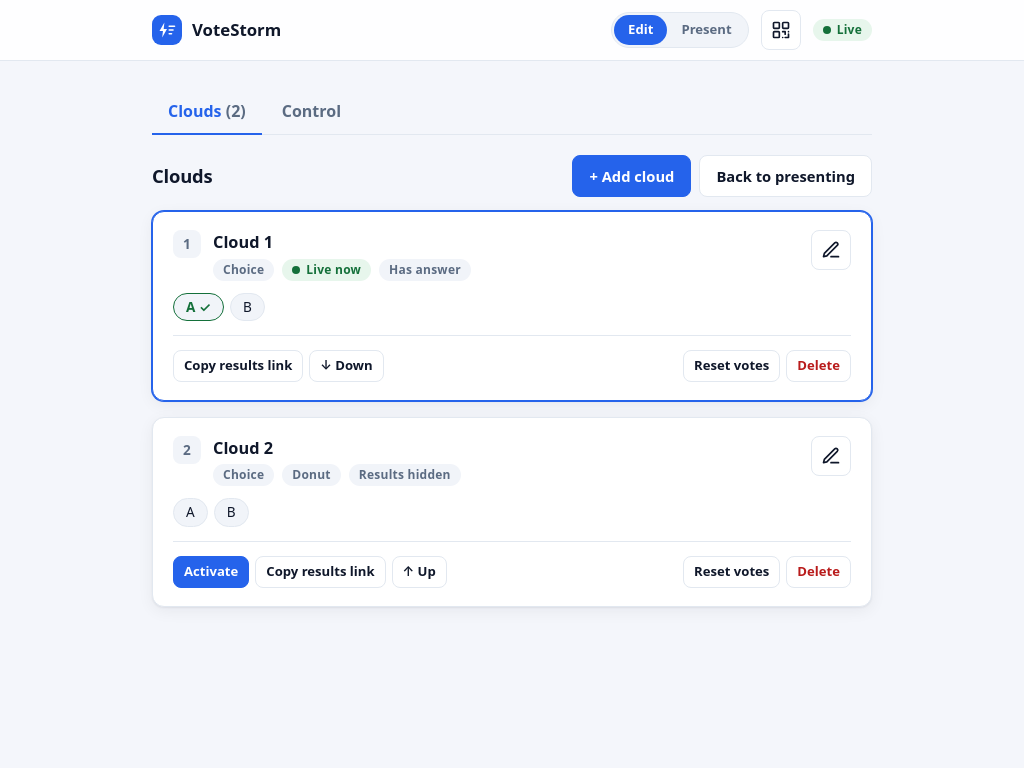
it: PresenterView › the edit overlay in Present mode › Edit cloud opens the form for the live cloud over the stage, and saving returns with the same cloud live and its new text
The image size is (1024, 768).
Step 1. Click the button "Present" → (707, 30), box [667,15,746,45]
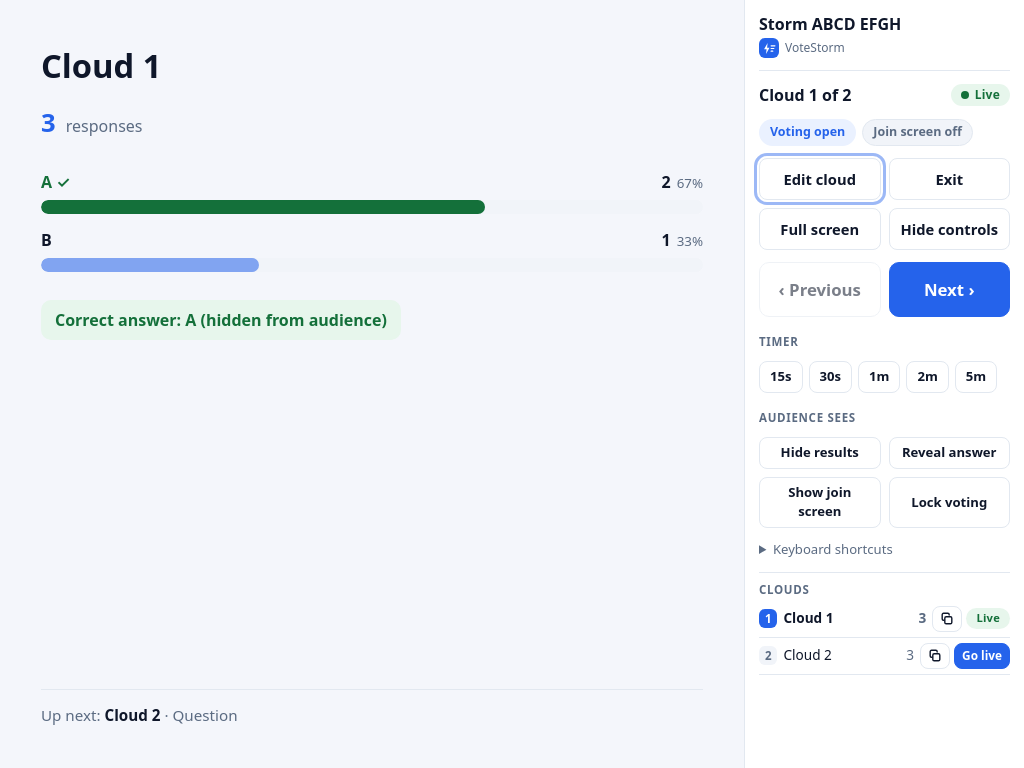
Step 2. Click the button with class "edit-cloud" → (820, 179), box [759,158,880,200]
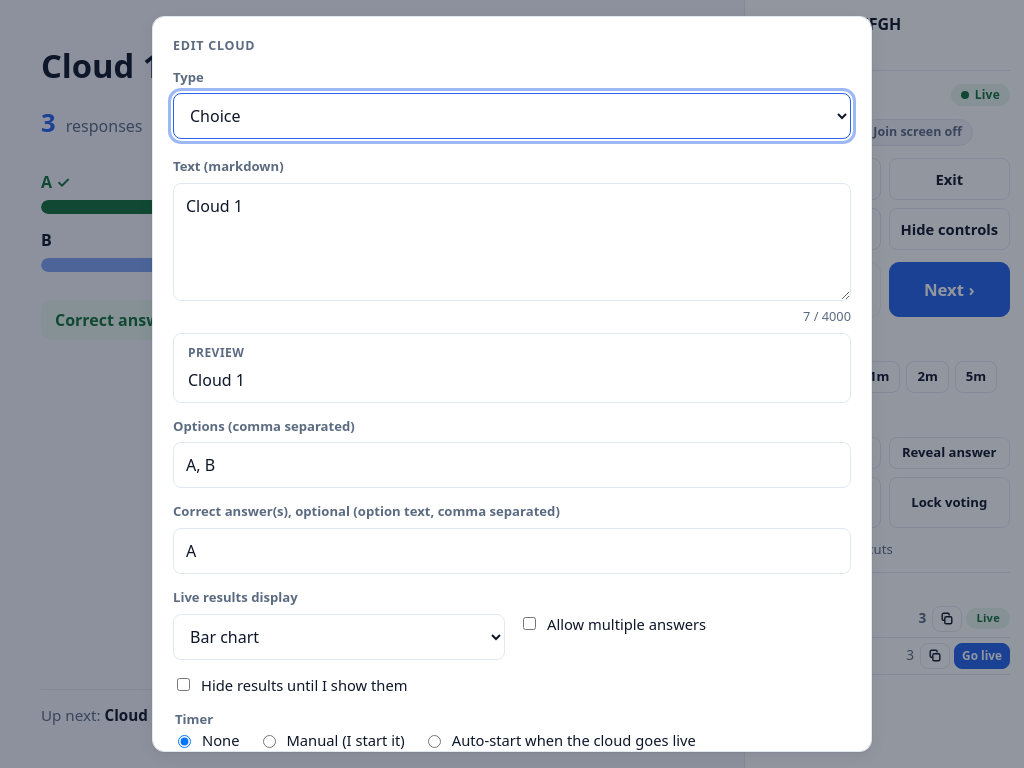
Now the dialog named "Edit cloud" is shown
Now the text box labelled "Text (markdown)" holds "Cloud 1"
Step 3. Replace the text in the text box labelled "Text (markdown)" with "Renamed live" → (512, 242), box [173,183,851,301]
(page scrolled)
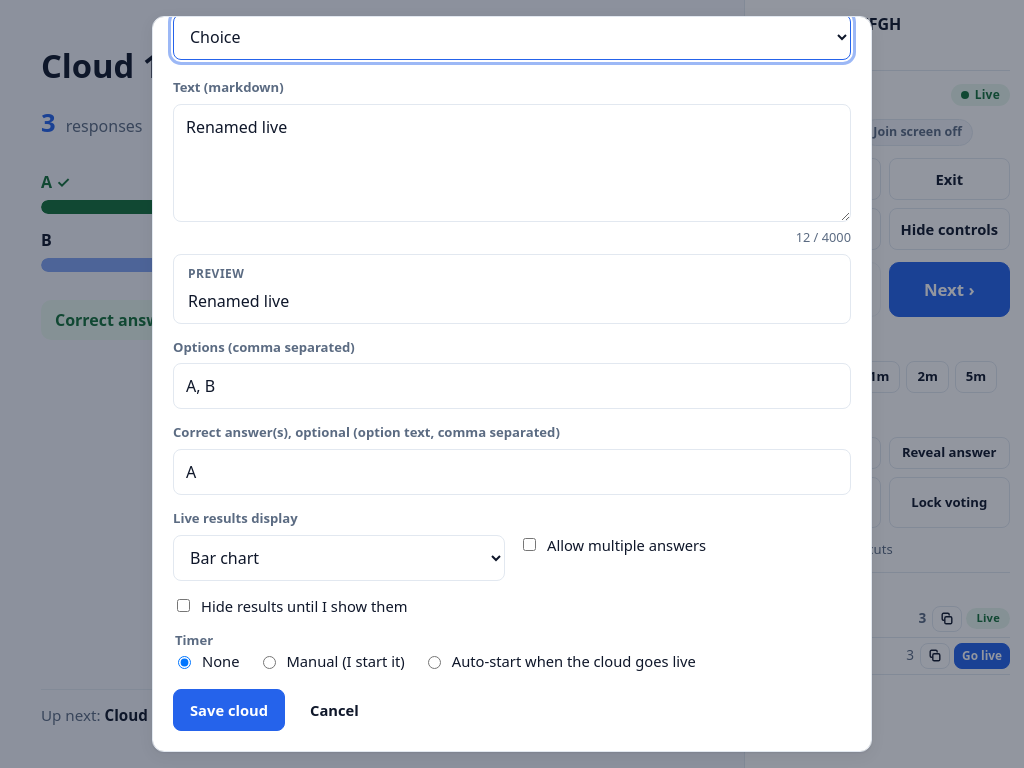
Step 4. Click the button "Save cloud" → (229, 710), box [173,688,285,731]
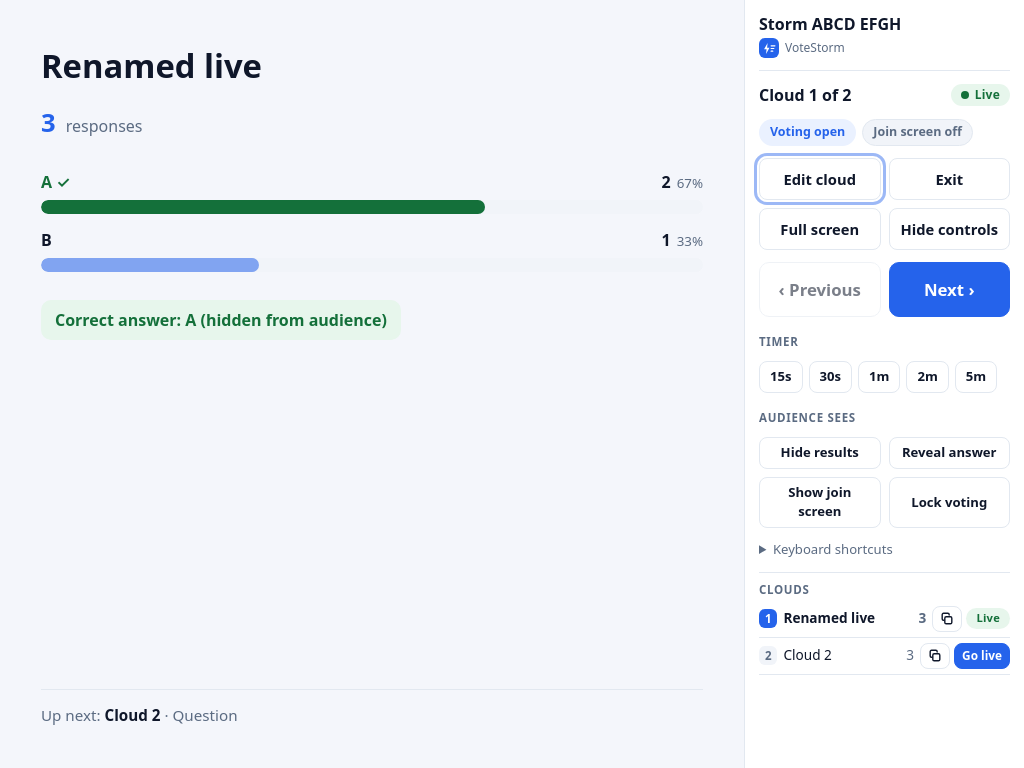
Now the element named "Presenter controls" shows "Cloud 1 of 2", box [759,84,852,106]
Now the element with class "stage" shows "Renamed live", box [41,43,262,88]
